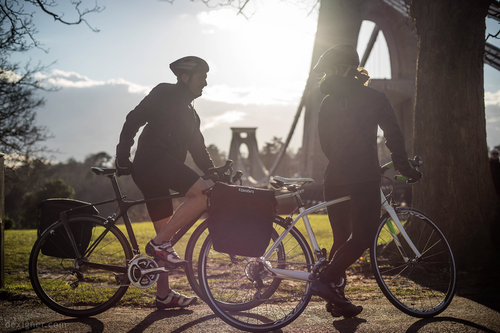bikerider: (206, 37, 461, 327), (28, 45, 254, 310)
